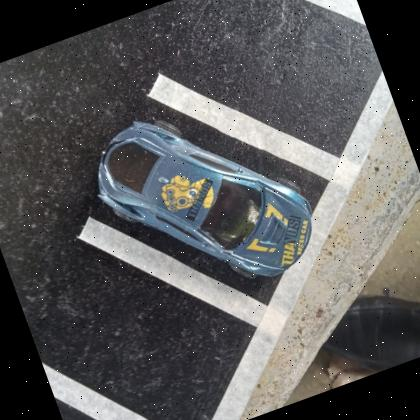Car: (98, 122, 313, 280)
